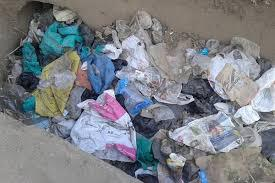Plastic: (112, 68, 183, 111)
